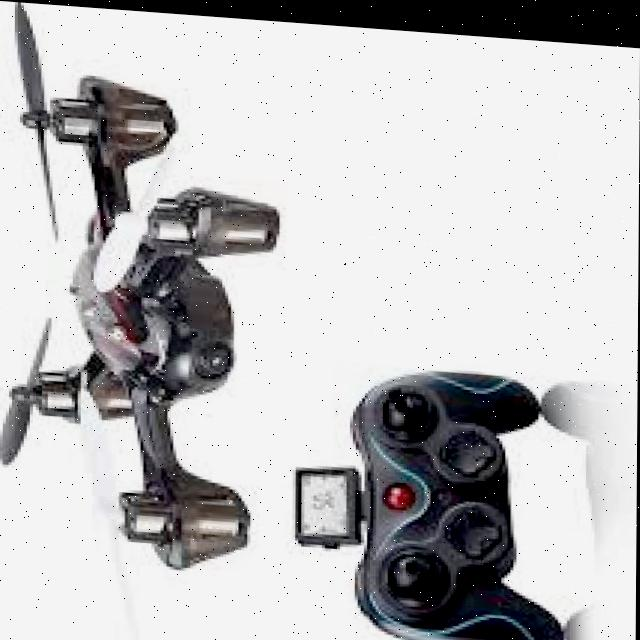drone: (0, 27, 303, 611)
